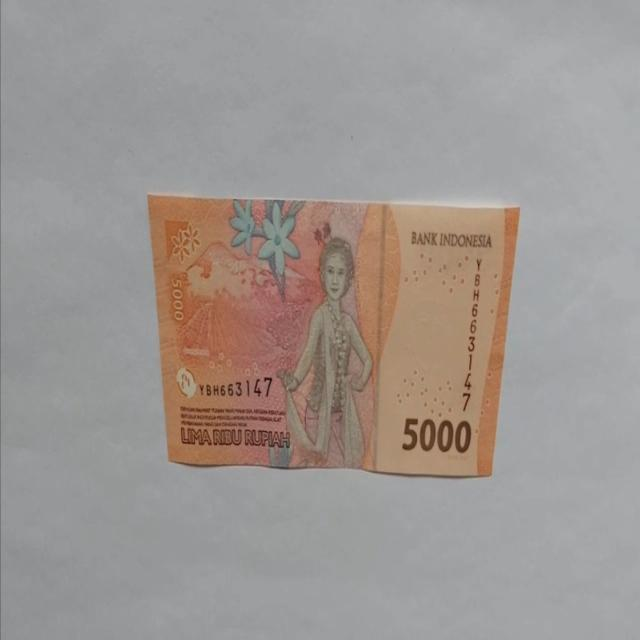lima ribu rupiah: (147, 193, 520, 477), (275, 234, 374, 468)
